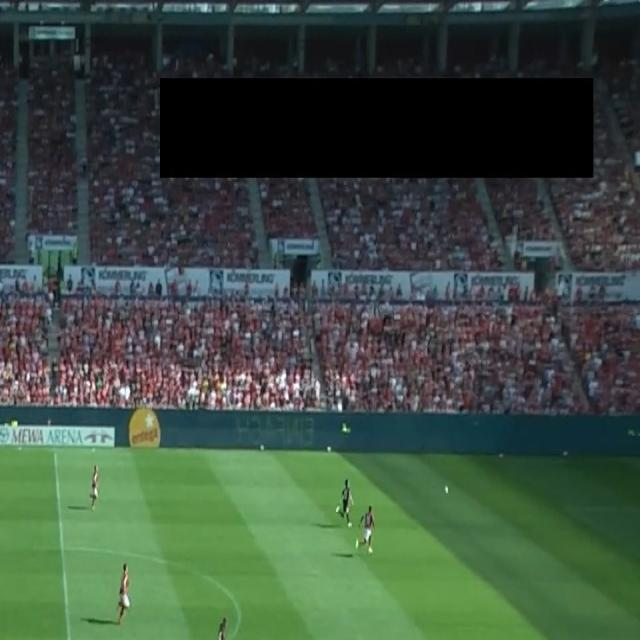ball: (443, 484, 450, 494)
